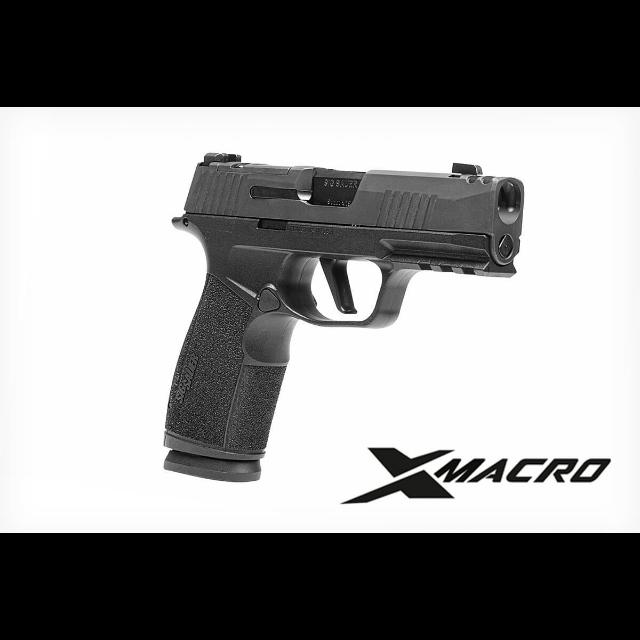handgun: (154, 148, 532, 488)
